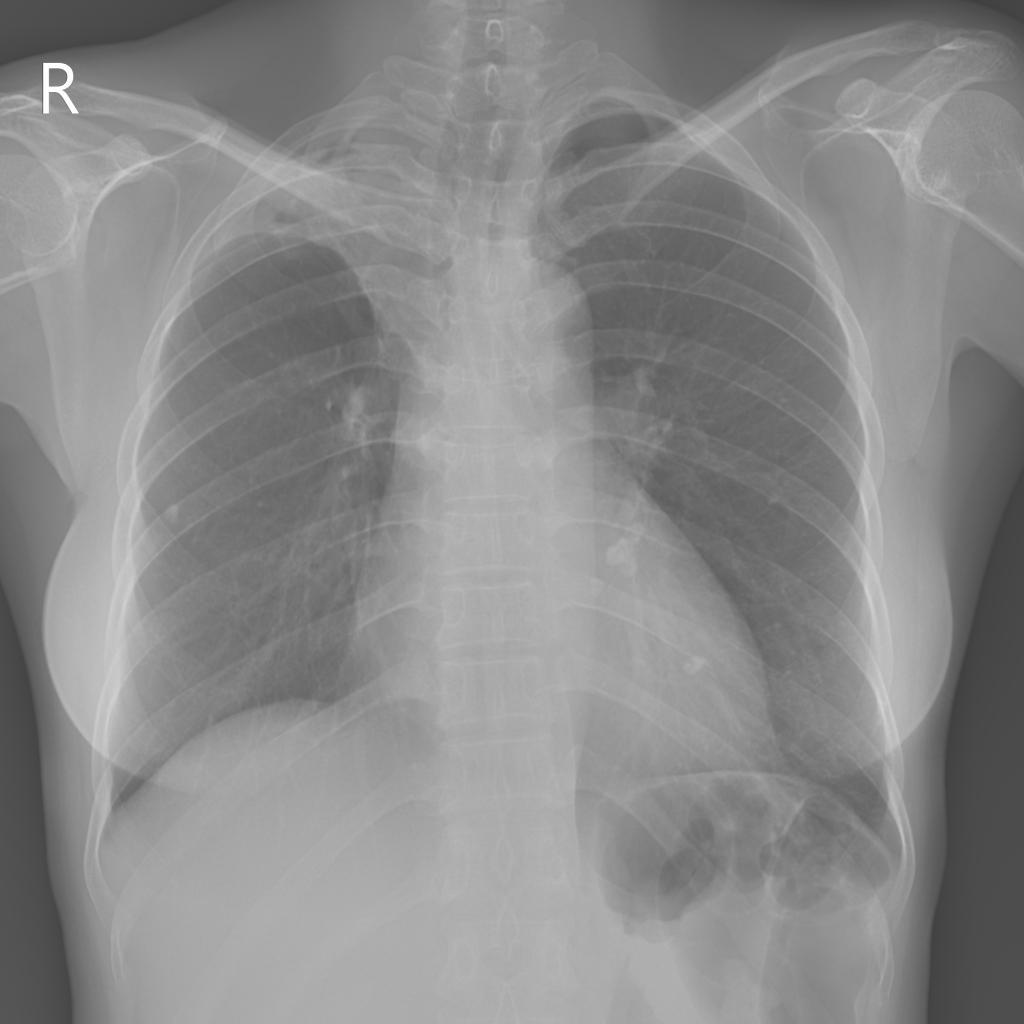Nodule: (604, 533, 640, 581), (165, 497, 182, 528), (684, 659, 706, 681), (588, 576, 604, 597)
